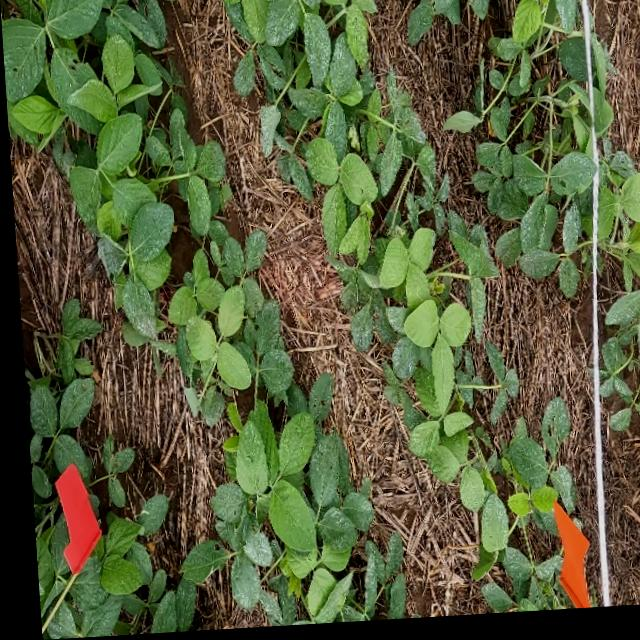soy_plant: (1, 0, 366, 640), (222, 0, 567, 617), (443, 0, 592, 304), (590, 41, 640, 436), (331, 538, 396, 626), (596, 160, 640, 286), (408, 0, 460, 48)
